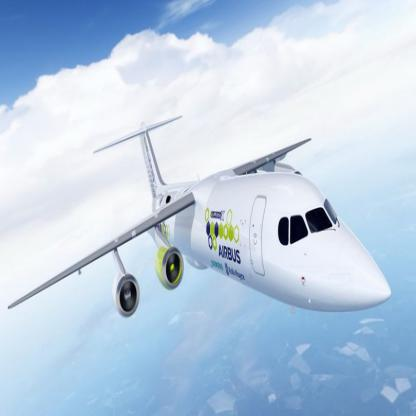CIV_Plane: (6, 111, 394, 325)
